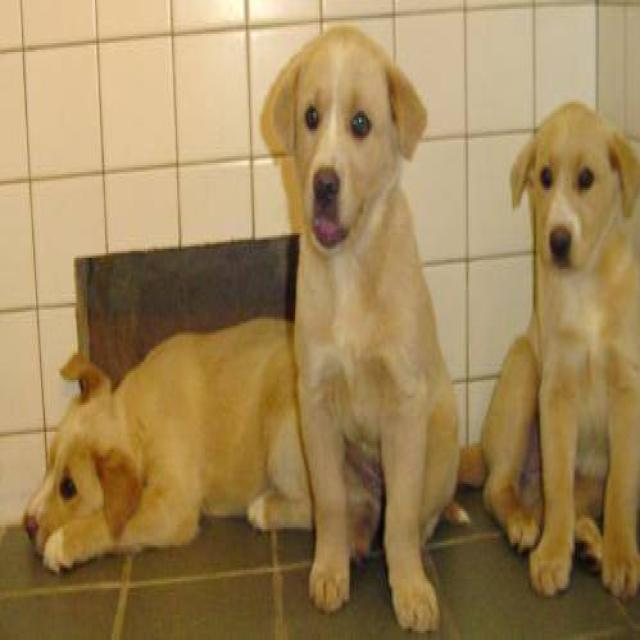dog: (259, 23, 469, 633), (458, 98, 639, 600)
